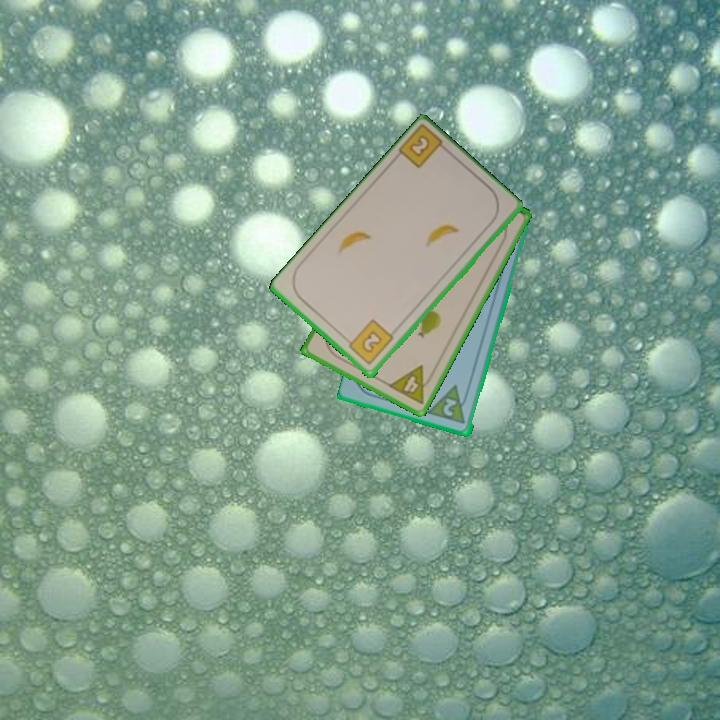2b: (395, 123, 453, 172), (343, 316, 396, 368)
2p: (426, 382, 473, 427)
4p: (385, 362, 438, 408)
